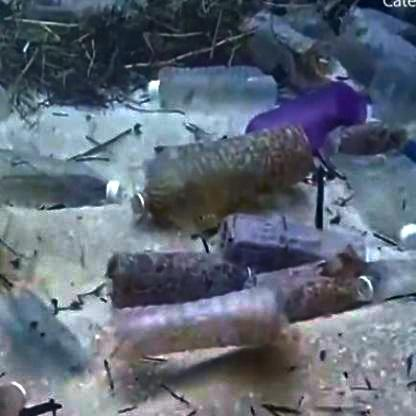pbottle: (141, 23, 297, 146), (0, 87, 128, 210), (140, 138, 321, 222), (80, 229, 259, 304), (124, 282, 272, 365), (235, 87, 372, 171), (344, 107, 416, 256), (242, 234, 380, 311)
